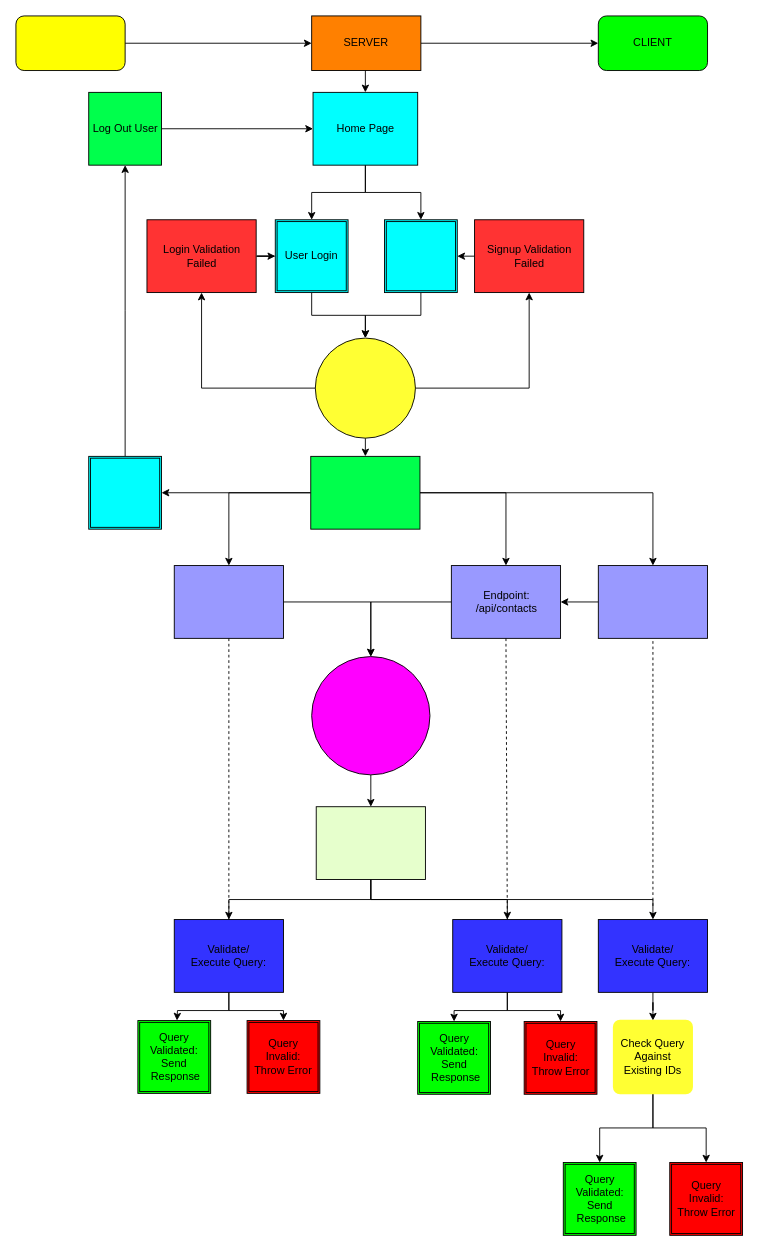
Some shapes in this 759 by 1251 pixel diagram are drawn without their labels. Here are the shapes that lost their labels. From the top down, the box of each, then its label:
(15, 15, 125, 71): DATABASE
(384, 219, 457, 293): User Signup
(314, 337, 415, 438): Validate Login/Signup
(88, 455, 162, 529): User Logout
(310, 455, 420, 529): Validation Passed
(173, 565, 283, 638): Endpoint: /api/products
(597, 565, 708, 638): Endpoint: /api/fliter/:query
(311, 656, 430, 775): Connect to MongoDB Database
(315, 806, 425, 880): GET METHOD Response: get Database Products
